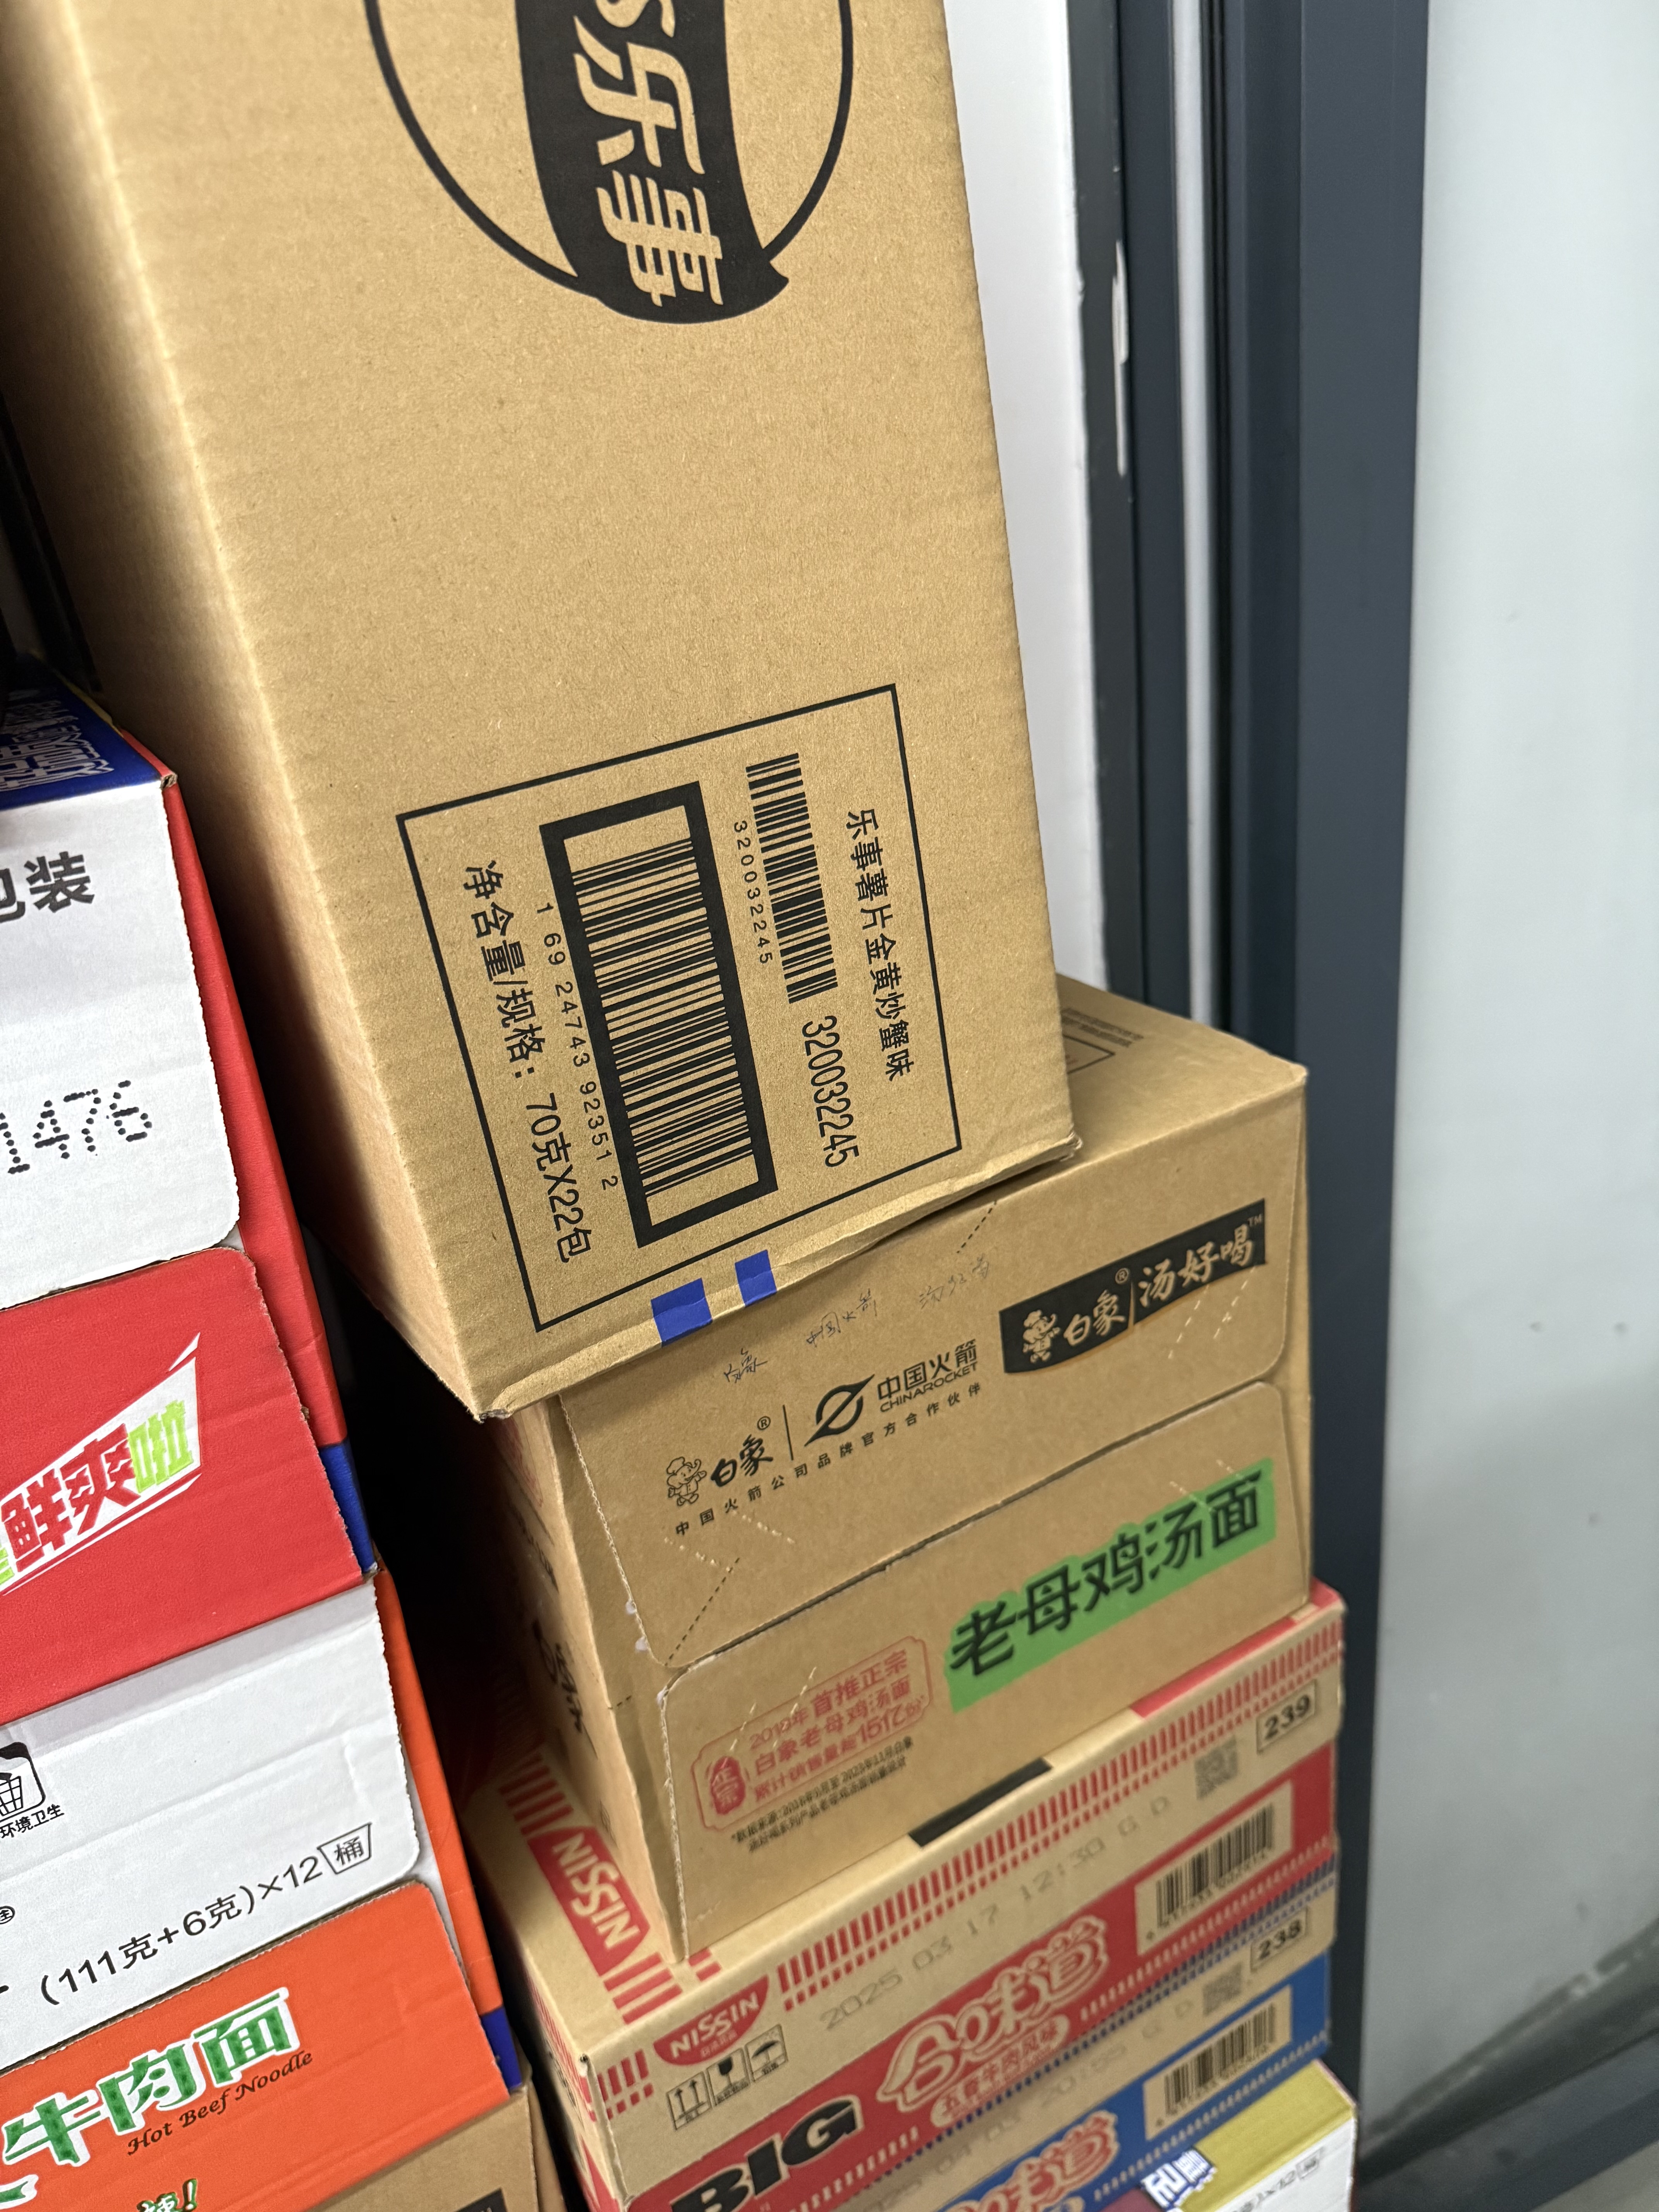bar: (563, 831, 786, 1204), (735, 747, 857, 1005), (1152, 1799, 1284, 1935), (1162, 1998, 1279, 2120)
